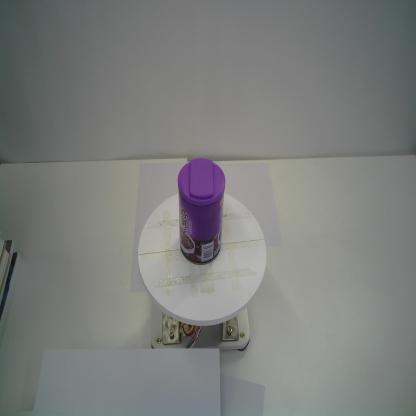Canned Food: (176, 157, 226, 266)
